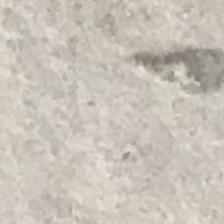Non_Crack: (31, 22, 210, 214)
